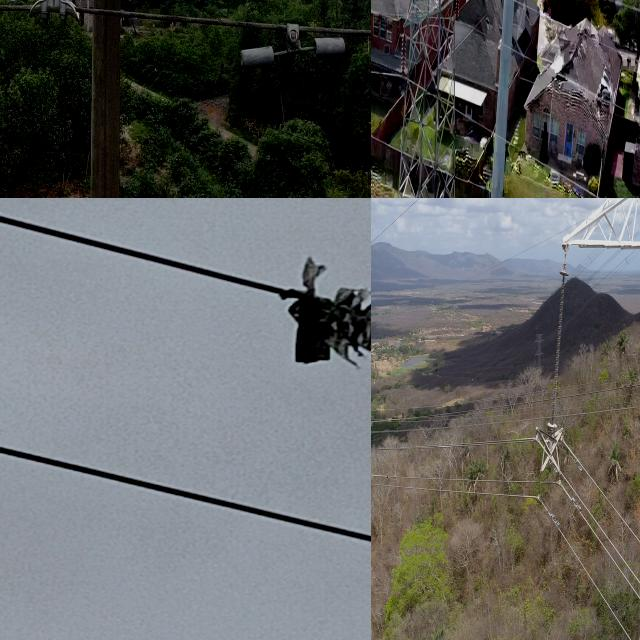杆塔: (25, 0, 139, 198), (387, 0, 462, 198)
植被遮挡: (271, 254, 371, 369)
正常电缆: (543, 502, 637, 640), (563, 484, 638, 601), (568, 480, 638, 582), (575, 456, 640, 545), (371, 411, 543, 435), (371, 198, 434, 257), (371, 478, 535, 500), (371, 467, 534, 486), (371, 435, 530, 453)
正常绝缘子: (546, 269, 570, 432), (400, 23, 407, 77), (453, 0, 461, 23)
